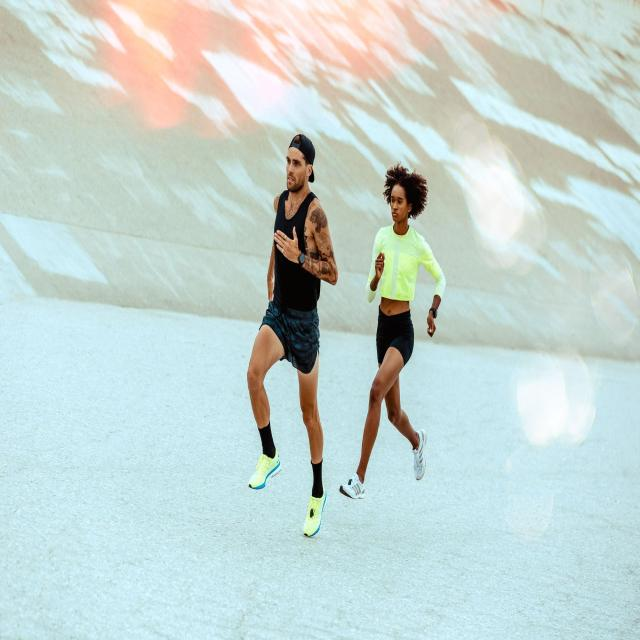Person: (246, 135, 338, 540), (339, 164, 447, 499)
